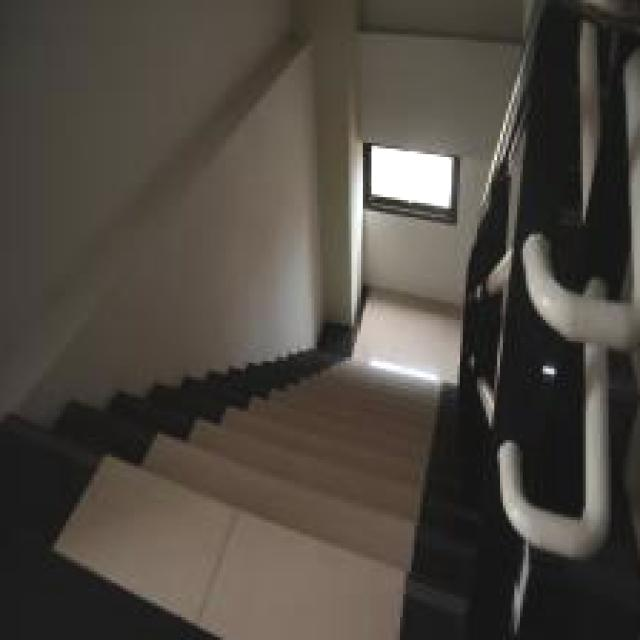downstair: (95, 375, 467, 640)
